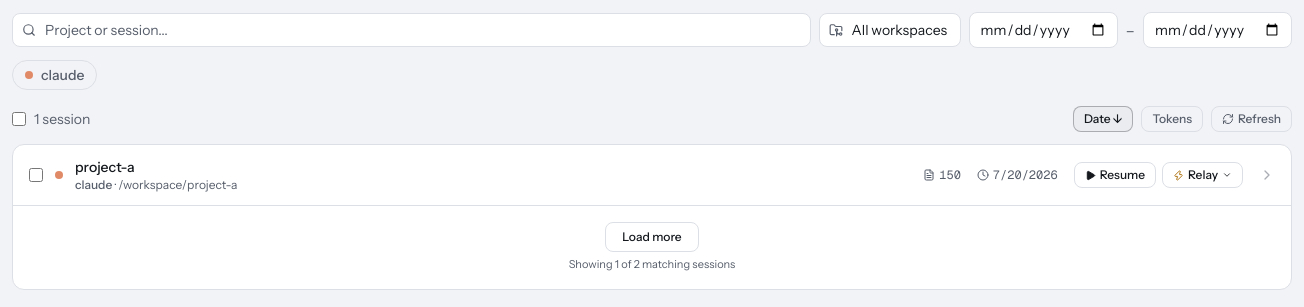
Test: SessionsPage paging › load more appends the next page and then disappears
Expected: the text "Showing 1 of 2 matching sessions" is shown, [569,256,735,272]
Click the button "Load more" at (652, 237), box [605,222,699,252]
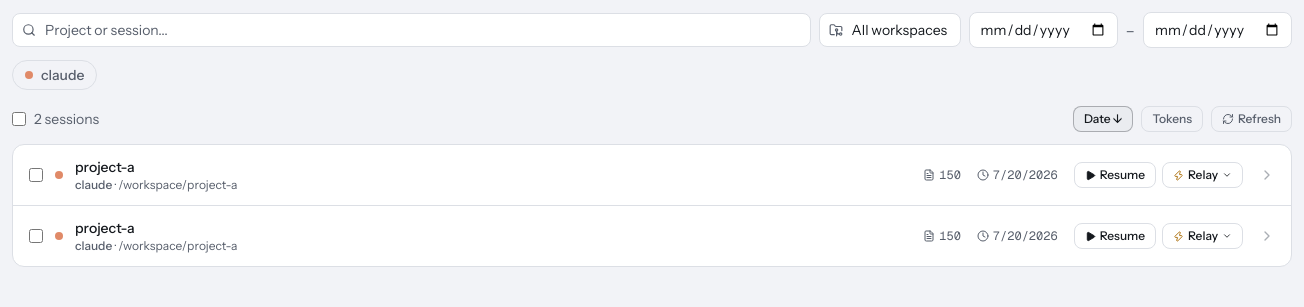
Result: the button "Load more" is gone
Result: the text "2 sessions" is shown at [12,109,99,129]
